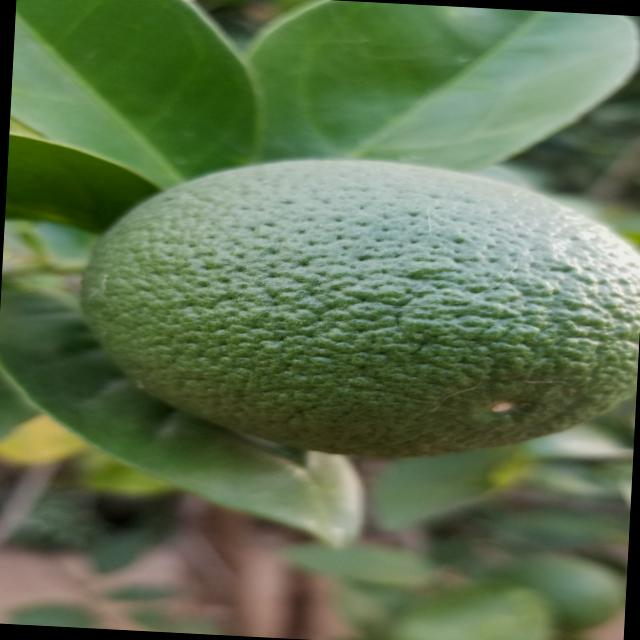Unripe: (65, 138, 640, 478)
